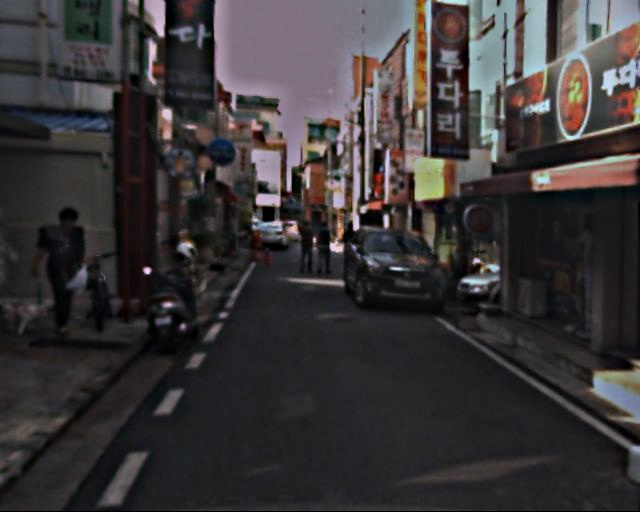person: (41, 205, 104, 334), (313, 220, 336, 277), (295, 221, 318, 277), (339, 221, 362, 276)
